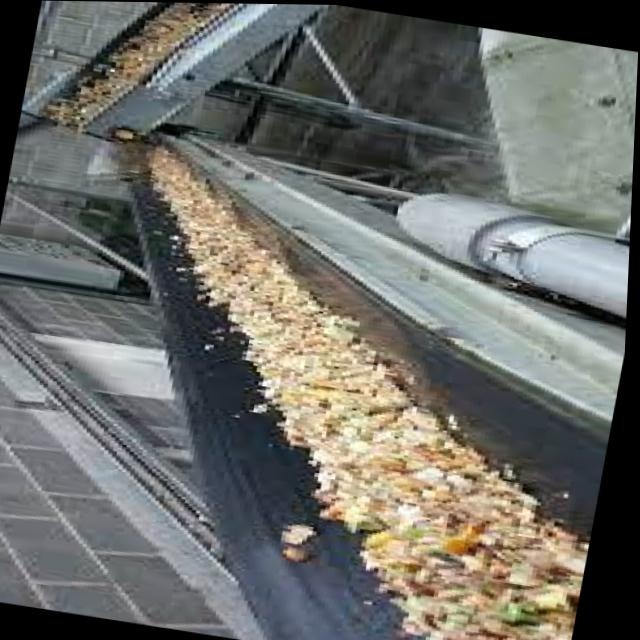Wet: (0, 0, 640, 640), (58, 184, 634, 640)
